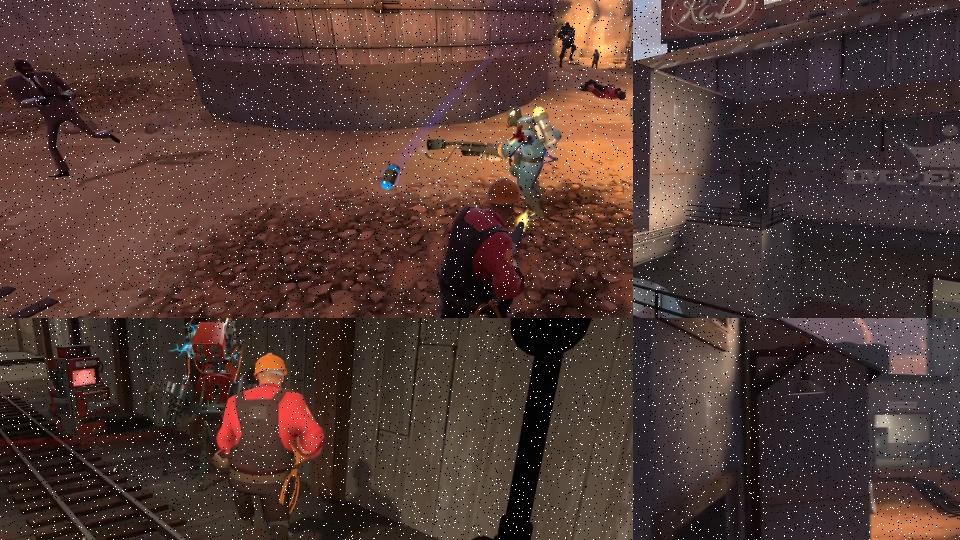Enemy: (205, 343, 336, 540), (412, 176, 535, 318), (426, 103, 564, 221), (1, 57, 124, 182), (579, 78, 627, 101), (557, 22, 577, 69), (591, 49, 601, 69)
